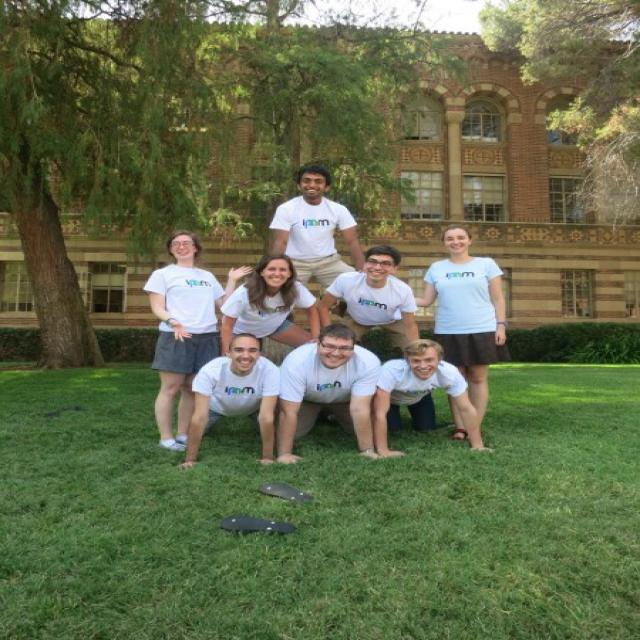body: (138, 228, 257, 454), (412, 225, 510, 445), (268, 320, 389, 466), (374, 337, 498, 459), (176, 331, 282, 470), (266, 164, 367, 298), (316, 244, 421, 358), (216, 252, 324, 359), (472, 213, 484, 221)
